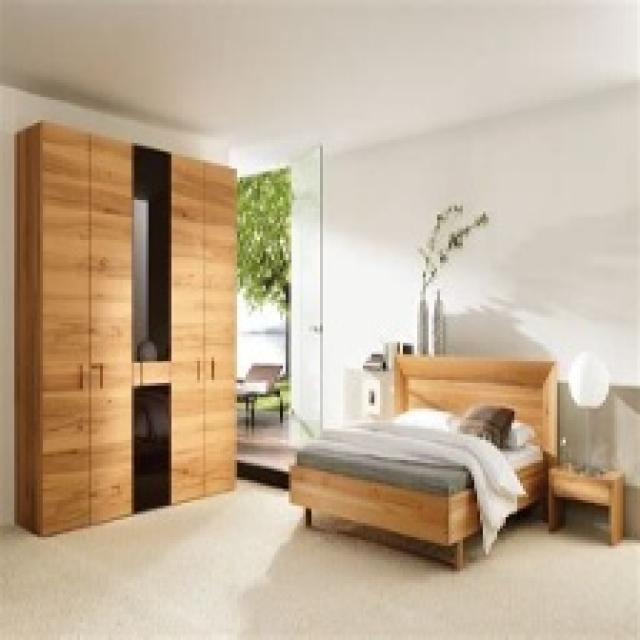Bed: (286, 352, 557, 568)
